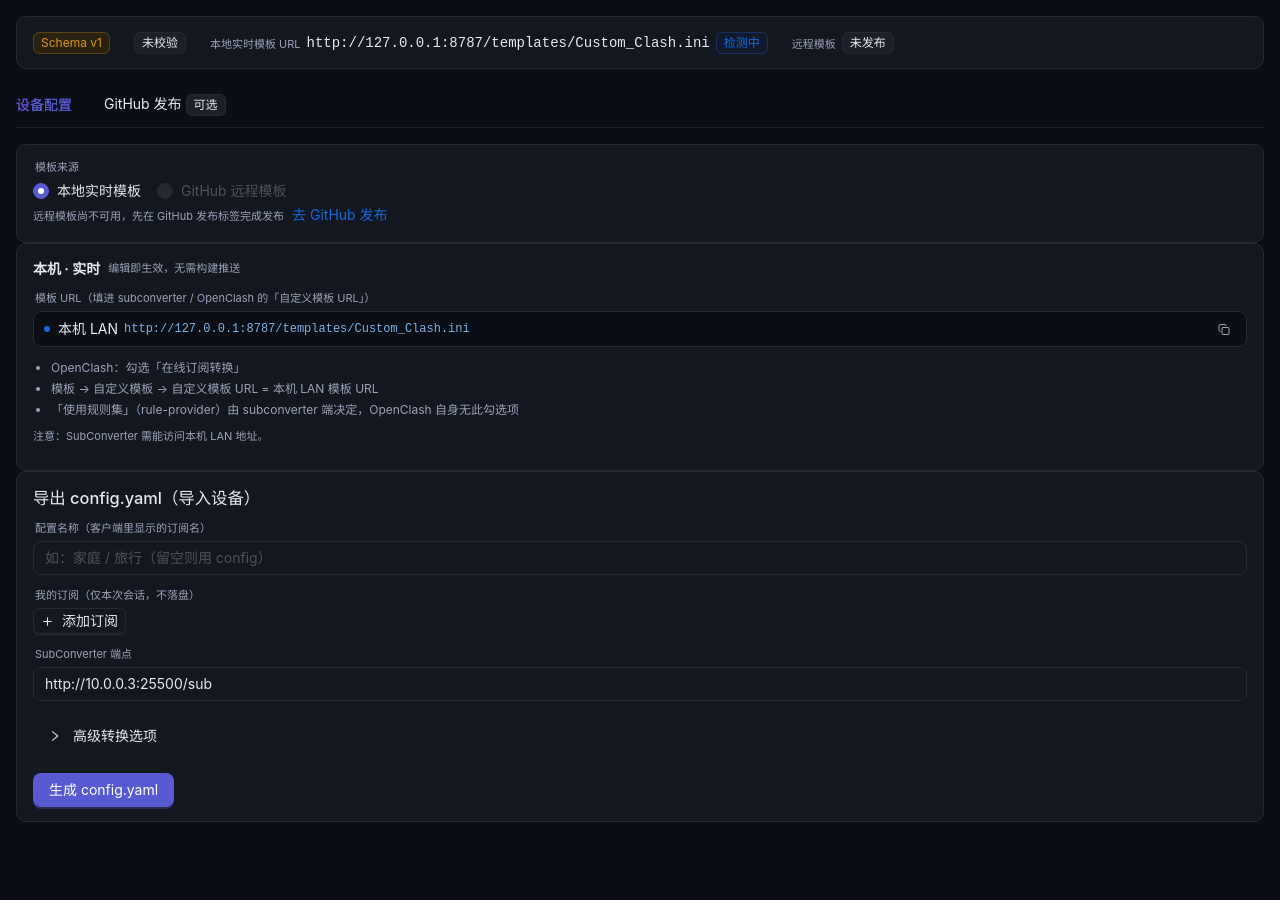
OutputPage › reveals the github publish panel after switching tabs
Click the tab "GitHub 发布 可选".
click(169, 104)  # box top-left (104, 93), bottom-right (234, 116)
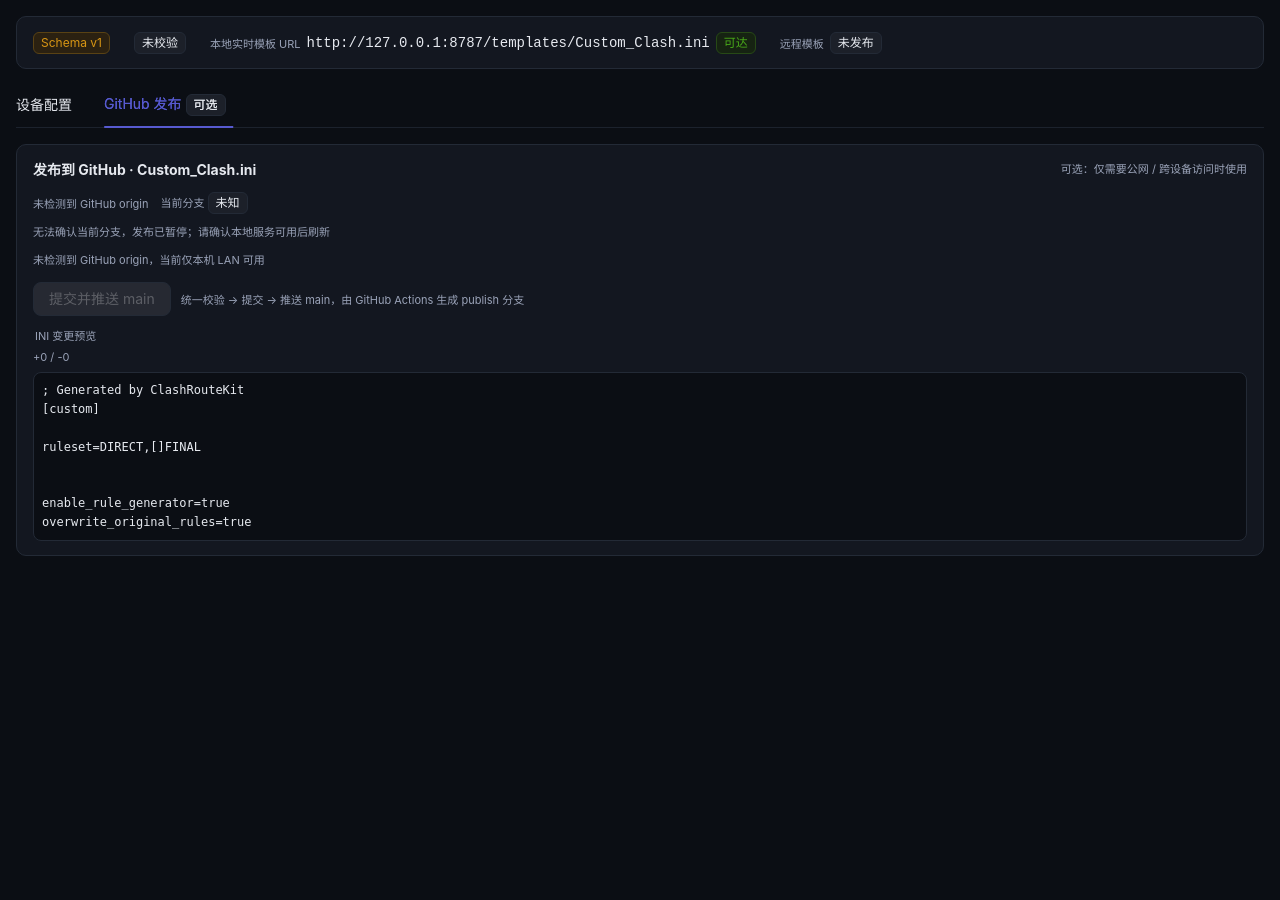
Check: the text "提交并推送 main" is shown, box top-left (49, 288), bottom-right (155, 310)
Check: the text with test id "publish-ini-preview" is shown, box top-left (33, 372), bottom-right (1247, 541)
